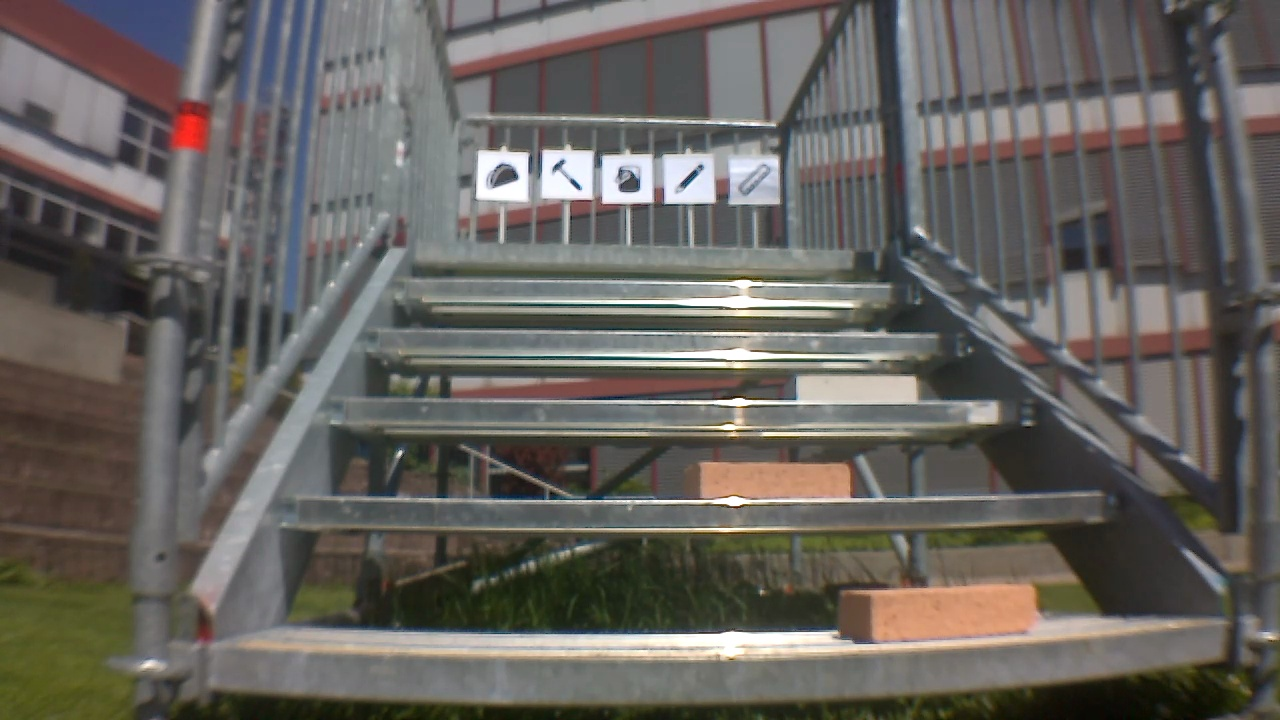brick: (834, 576, 1040, 643), (700, 459, 855, 500), (792, 374, 920, 406)
bucket: (610, 163, 645, 197)
edge: (205, 632, 1245, 706), (284, 485, 1125, 536), (330, 398, 1036, 428), (360, 329, 974, 353), (409, 246, 888, 272), (390, 283, 924, 301)
hammer: (550, 160, 582, 197)
pencil: (670, 160, 708, 197)
stairs: (137, 0, 1276, 711)
steps: (170, 240, 1273, 697)
taco: (485, 161, 520, 190)
